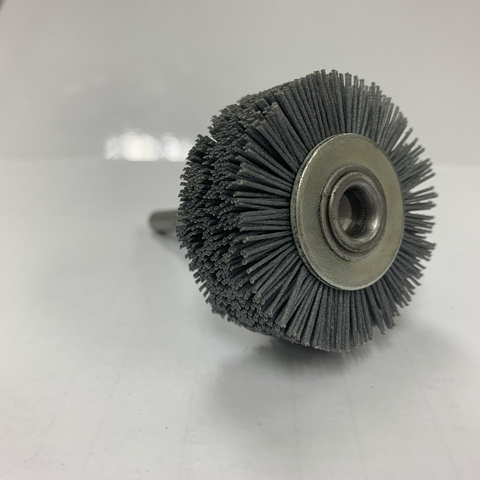Wheel Brush: (134, 62, 440, 363), (173, 63, 429, 362)
